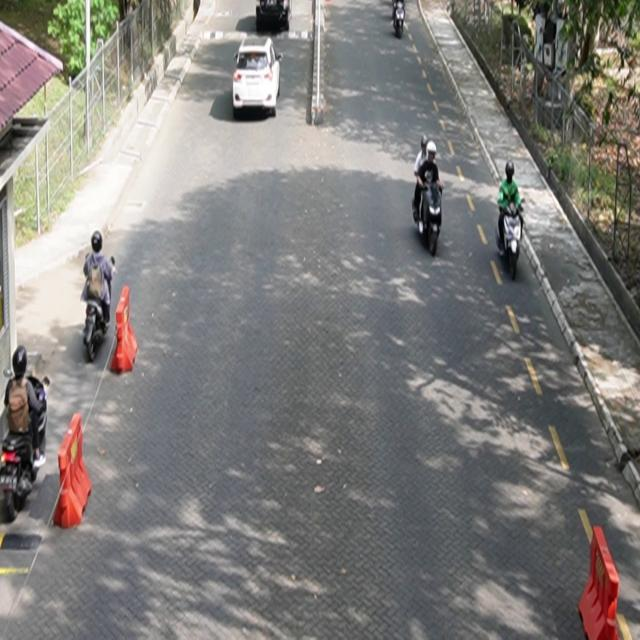car: (233, 36, 284, 118)
